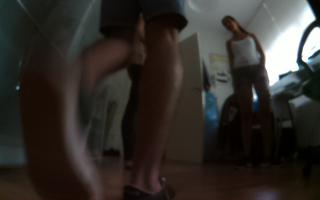person: (20, 1, 180, 200), (209, 10, 290, 173), (110, 15, 153, 171)
